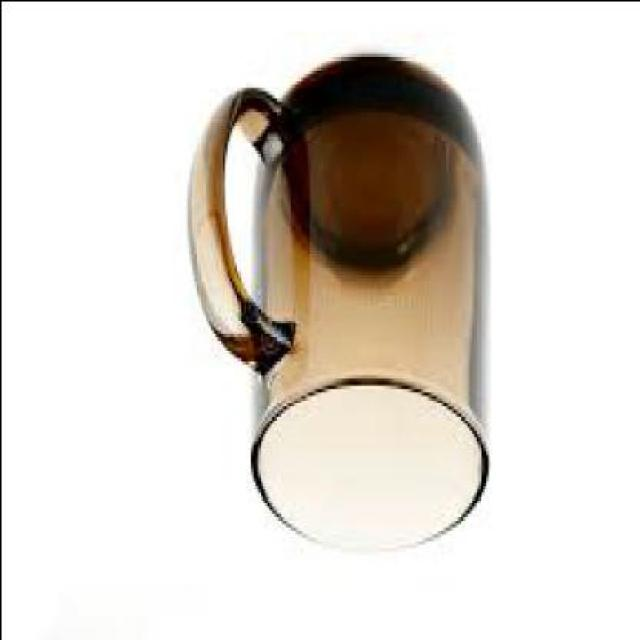glass: (186, 55, 492, 557)
